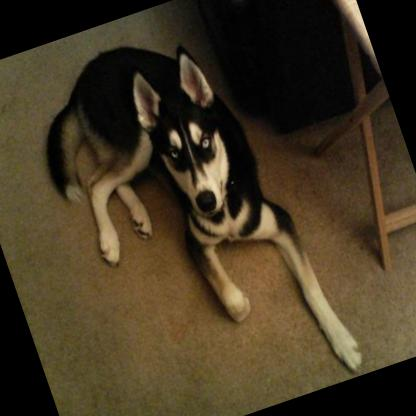Siberian_husky: (14, 0, 366, 416)
